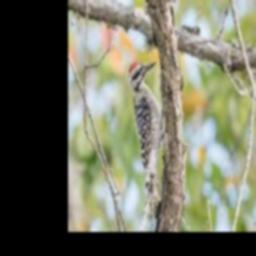Woodpecker: (128, 61, 164, 232)
